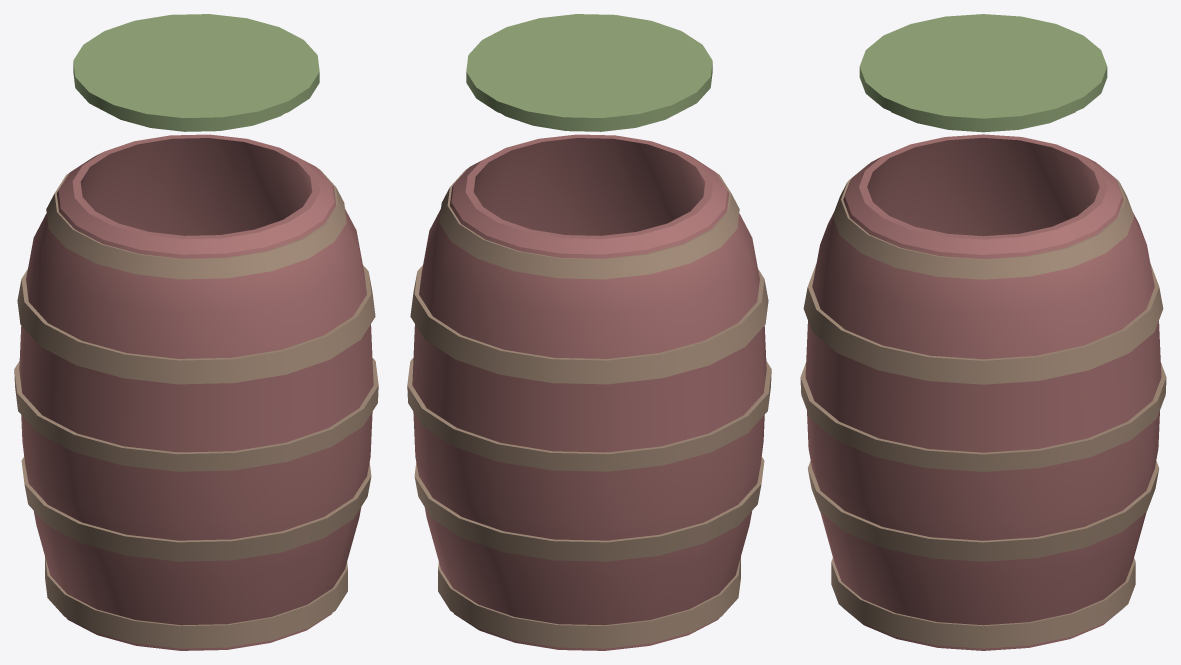
Rendered from barrel_low.fbx.
The picture shows the model from 3 angles, left to right: view 1: azimuth 30°, elevation 25°; view 2: azimuth 150°, elevation 25°; view 3: azimuth 270°, elevation 25°; orthographic projection.
Parts seen in each view (by area): view 1: barrelBody_low, barrelRings_low, barrelLid_low; view 2: barrelBody_low, barrelRings_low, barrelLid_low; view 3: barrelBody_low, barrelRings_low, barrelLid_low.
Boxes of the visible parts, x1,y1,x2,y2 form: barrelBody_low: (19, 134, 373, 650); barrelRings_low: (14, 168, 378, 648); barrelLid_low: (73, 14, 319, 131); barrelBody_low: (412, 134, 766, 650); barrelRings_low: (407, 168, 771, 648); barrelLid_low: (466, 14, 712, 131); barrelBody_low: (805, 134, 1161, 650); barrelRings_low: (800, 164, 1166, 648); barrelLid_low: (859, 14, 1107, 132).
Bounding box in the file's own units: 4.42 × 6.96 × 4.42.
